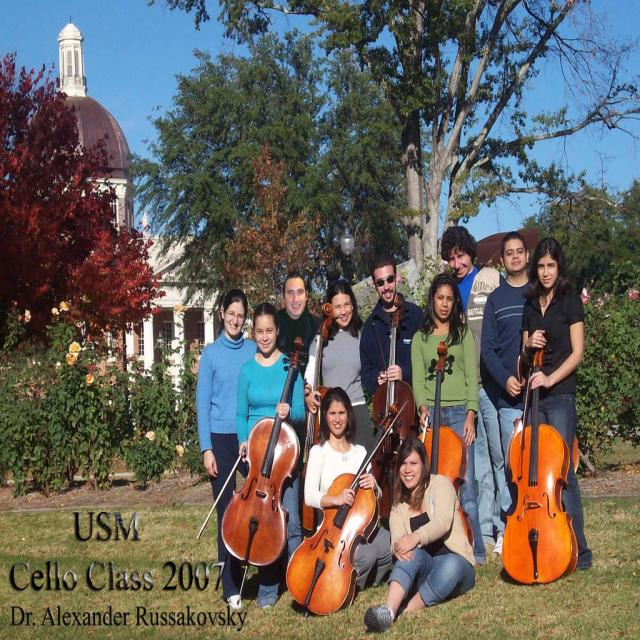cello: (286, 399, 409, 613), (500, 334, 580, 589), (222, 337, 308, 569), (410, 338, 483, 585), (296, 302, 342, 529), (372, 293, 415, 520)
